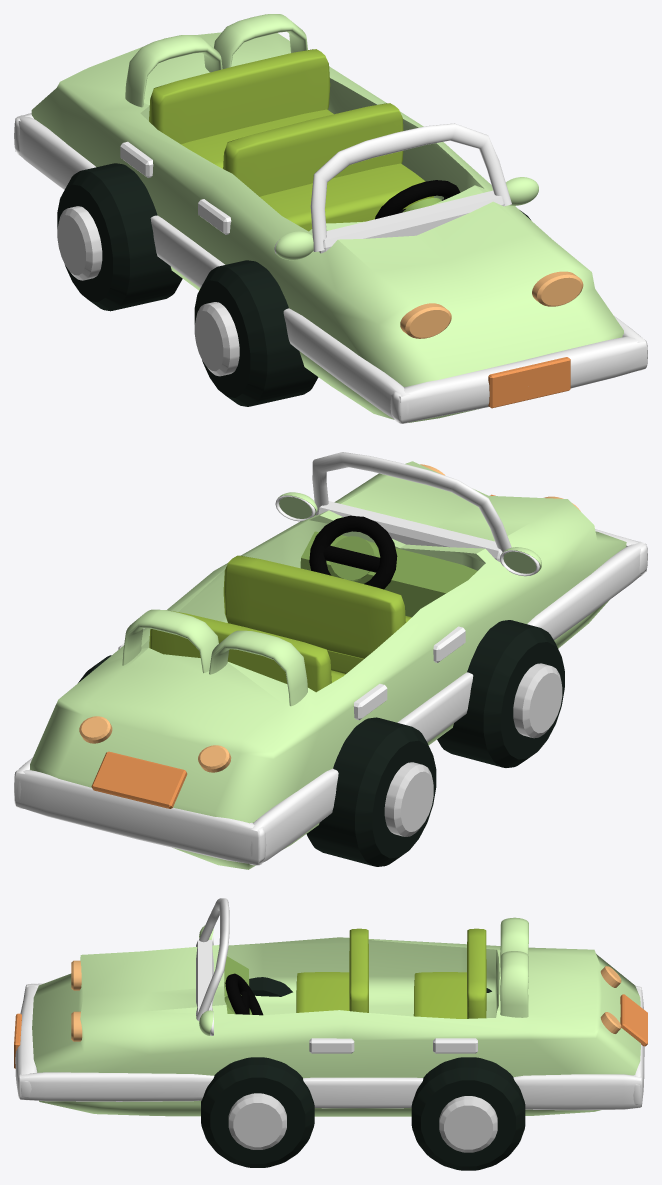
Rendered from car_green.fbx.
3 views of the same model, one above another, from view 1: azimuth 30°, elevation 25°; view 2: azimuth 150°, elevation 25°; view 3: azimuth 270°, elevation 25° (orthographic). The views are drawn at different scales.
Visible parts, largest first — view 1: pasted__pasted__pCube13.001, pasted__pasted__pasted__pCylinder4.001; view 2: pasted__pasted__pCube13.001, pasted__pasted__pasted__pCylinder4.001; view 3: pasted__pasted__pCube13.001, pasted__pasted__pasted__pCylinder4.001.
Boxes of the visible parts, x1,y1,x2,y2 form: pasted__pasted__pCube13.001: (14,14,647,423); pasted__pasted__pasted__pCylinder4.001: (57,163,530,406); pasted__pasted__pCube13.001: (14,452,647,869); pasted__pasted__pasted__pCylinder4.001: (78,620,564,866); pasted__pasted__pCube13.001: (14,898,647,1116); pasted__pasted__pasted__pCylinder4.001: (201,977,525,1170).
Size of the model in its own units: 555 by 388 by 1128.
